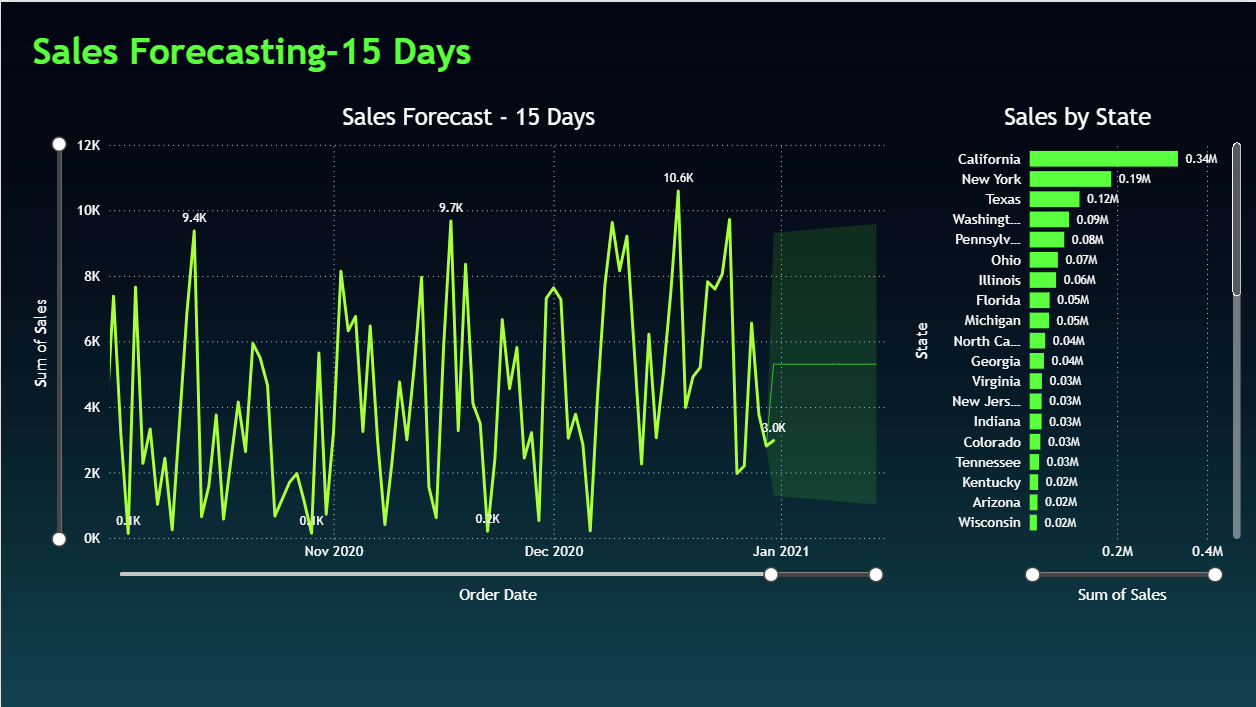

What the dashboard file says about the page in this screenshot:
{"tool":"powerbi","page":{"name":"Forecasting ","canvas":[1280,720],"ordinal":1},"visuals":[{"type":"lineChart","title":"Sales Forecast - 15 Days","fields":{"Y":["Sum(Sheet1.Sales)"],"Category":["Sheet1.Order Date"]},"box":[26.9,103.5,900,513.1],"z":0},{"type":"textbox","box":[26.9,22.7,552.8,89.3],"z":1000},{"type":"clusteredBarChart","title":" Sales by State","fields":{"Y":["Sum(Sheet1.Sales)"],"Category":["Sheet1.State"]},"box":[926.9,103.5,343,513.1],"z":2000}]}

Visuals, with their boxes in screenshot pixels (x1, y1, x2, y2), scaled from the page's 1280x720 canvas onto the 1256x707 screenshot:
"Sales Forecast - 15 Days" lineChart: rect(26, 102, 910, 605)
textbox: rect(26, 22, 569, 110)
" Sales by State" clusteredBarChart: rect(910, 102, 1246, 605)
